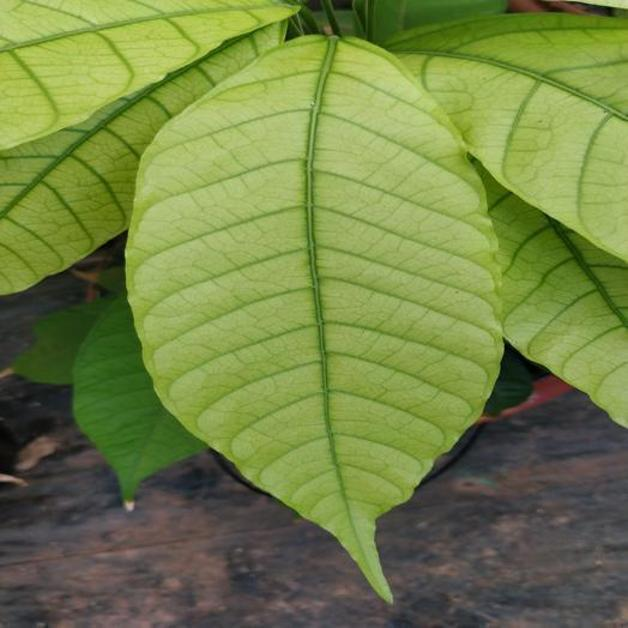Healthy Leaf: (74, 295, 207, 504)
Iron: (127, 36, 502, 599), (0, 26, 278, 294), (387, 14, 627, 260), (0, 0, 296, 149), (480, 169, 627, 426)
